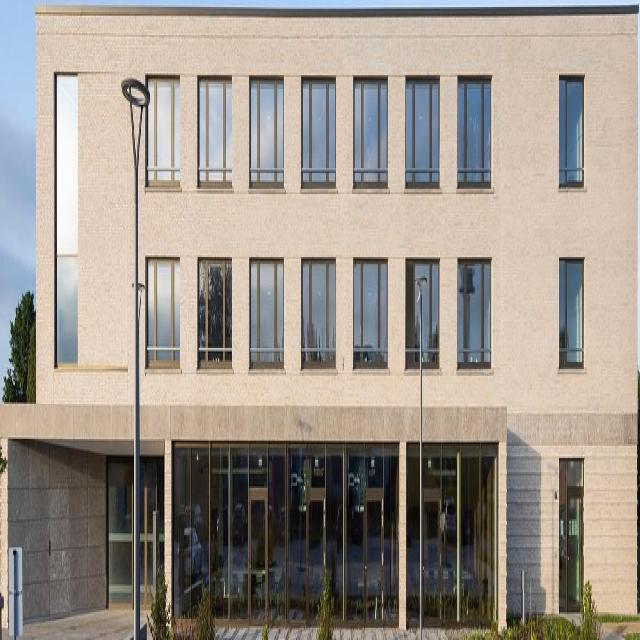door: (561, 456, 582, 638), (363, 486, 384, 632), (248, 484, 268, 631), (306, 487, 326, 632), (422, 486, 441, 628)
plant: (0, 287, 37, 400)
wall: (0, 0, 638, 638)
windows: (172, 440, 399, 630), (406, 439, 498, 629), (107, 456, 165, 603), (56, 70, 79, 361), (198, 76, 232, 190), (249, 73, 283, 187), (354, 73, 388, 187), (458, 76, 492, 190), (404, 247, 438, 361), (406, 71, 439, 185), (197, 252, 230, 366), (250, 258, 283, 372), (353, 250, 386, 364), (457, 253, 490, 367), (145, 255, 178, 364), (146, 79, 179, 187), (302, 77, 335, 185), (301, 253, 334, 361), (559, 74, 584, 184), (559, 258, 584, 367)
